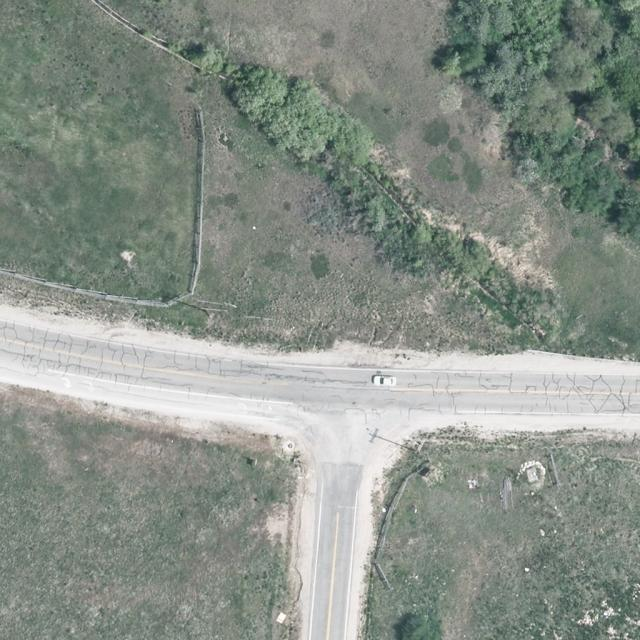vehicle: (372, 376, 397, 386)
